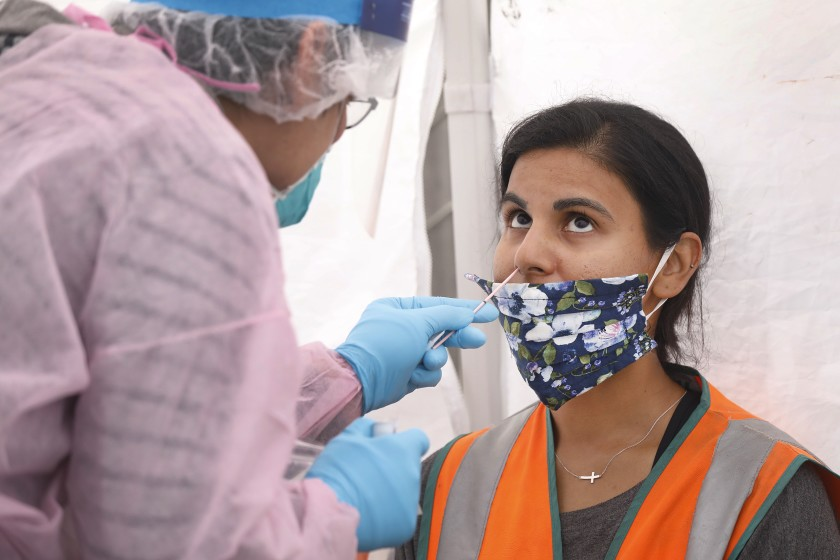Gloves: (334, 288, 500, 417), (308, 414, 429, 555)
mask_weared_incorrect: (489, 191, 640, 412)
